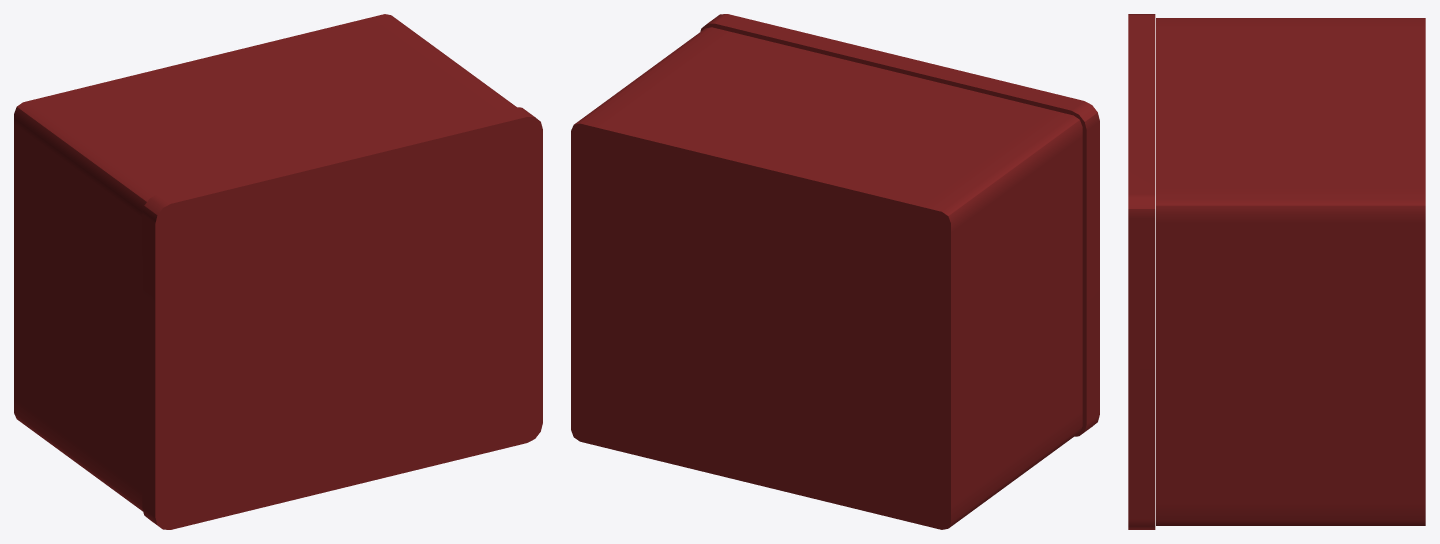
The model's file is Battery Panel Cover.glb.
The picture shows the model from 3 angles, left to right: view 1: azimuth 30°, elevation 25°; view 2: azimuth 150°, elevation 25°; view 3: azimuth 270°, elevation 25°; orthographic projection. The views are drawn at different scales.
Visible parts, largest first — view 1: Battery_Panel_cover, Battery_Panel; view 2: Battery_Panel, Battery_Panel_cover; view 3: Battery_Panel, Battery_Panel_cover.
Part boxes in pixels (<box>): Battery_Panel_cover: <box>142,107,542,529</box>; Battery_Panel: <box>14,14,516,511</box>; Battery_Panel: <box>571,27,1082,529</box>; Battery_Panel_cover: <box>700,14,1099,436</box>; Battery_Panel: <box>1156,18,1425,525</box>; Battery_Panel_cover: <box>1128,14,1155,529</box>.
Size of the model in its own units: 5.1 by 4.1 by 3.31.
